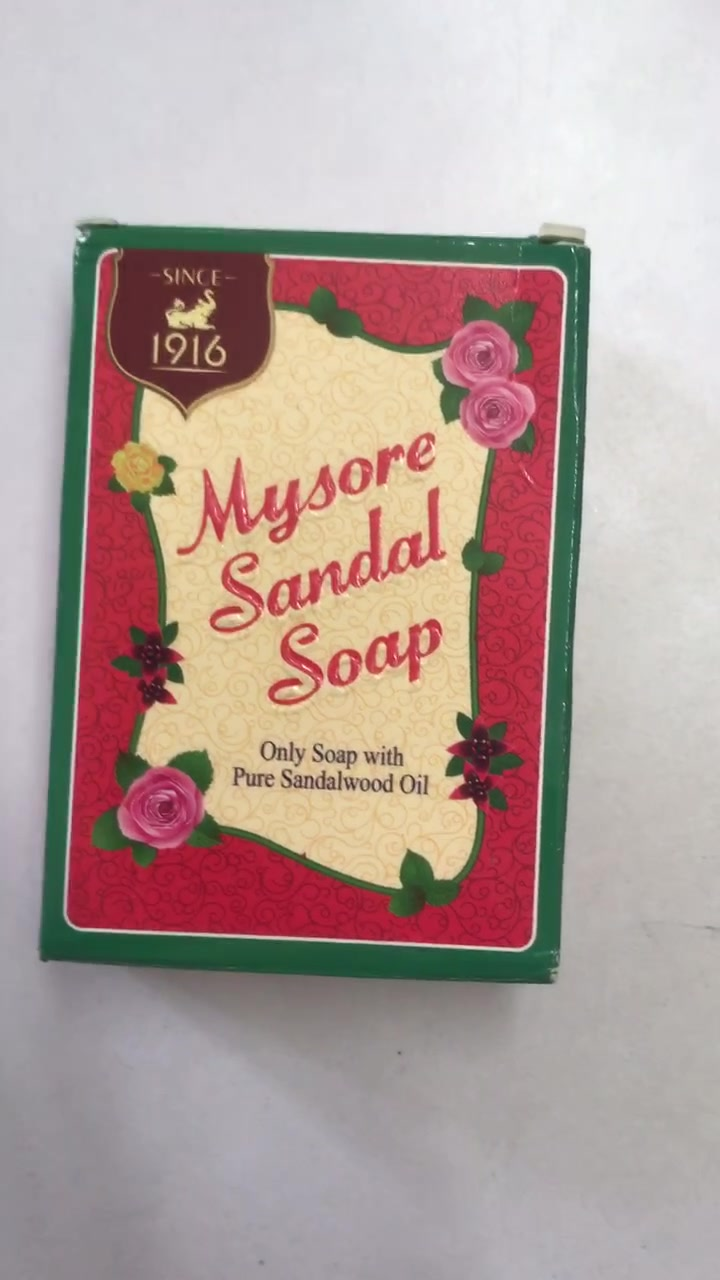mysore sandal soap: (46, 220, 563, 980)
